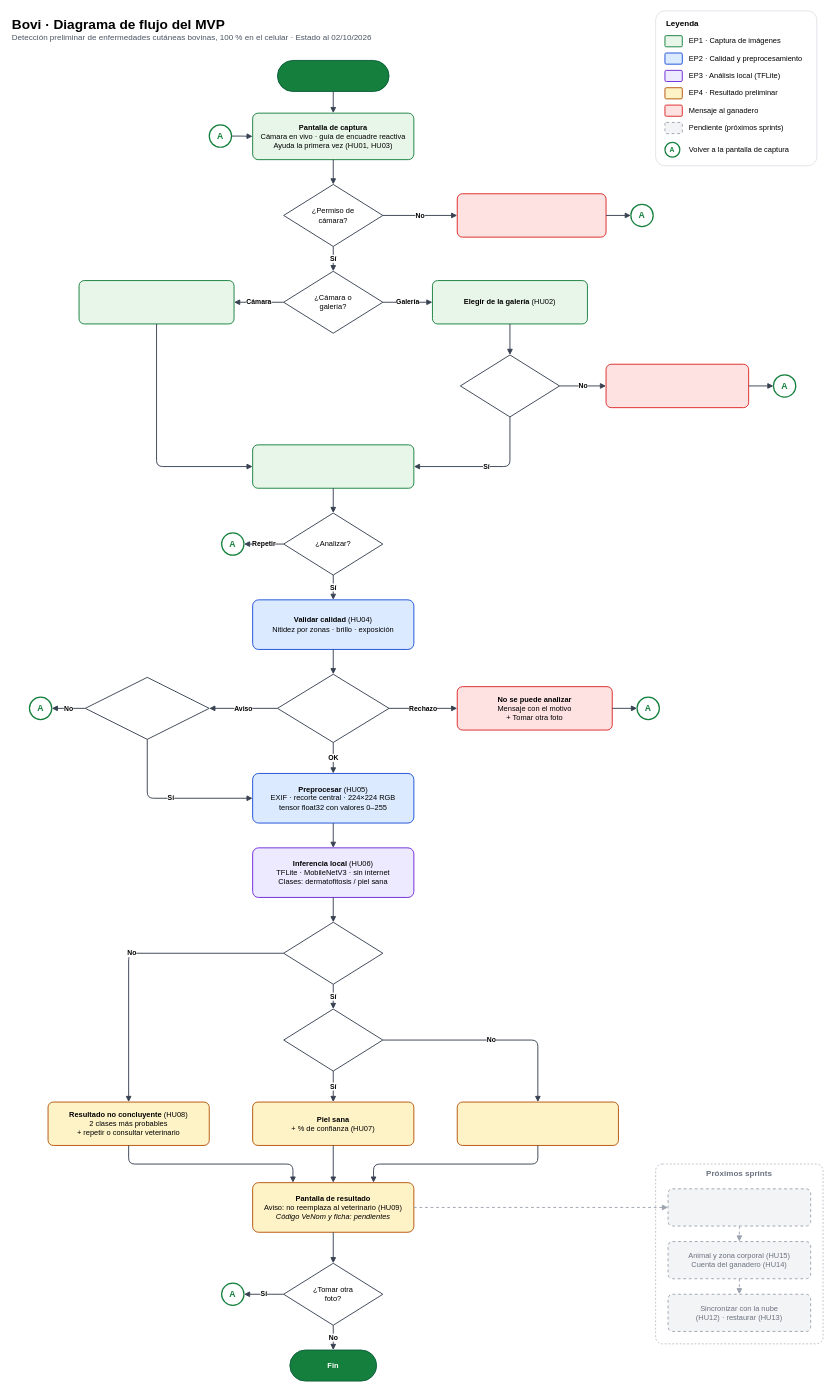
This 834x1393 diagram has some shape labels left out. The shapes that lost their labels are listed below. From the top down, each one's box as (x1, y1, x2, y2) in pixels, then its label:
(277, 60, 389, 92): Inicio: el ganadero abre Bovi
(457, 193, 606, 237): Explica para qué sirve el permiso + botón Abrir ajustes
(78, 280, 234, 324): Tomar foto 720p (HU01) Marco verde cuando el celular está quieto
(460, 354, 560, 417): ¿Resolución ≥ 720p?
(605, 364, 749, 408): Aviso: resolución insuficiente sugiere tomar una foto
(252, 444, 414, 488): Vista previa Analizar · Repetir
(85, 677, 209, 740): ¿Analizar de todos modos?
(277, 674, 389, 743): ¿Calidad de la foto?
(283, 922, 383, 984): ¿Confianza ≥ 60 %?
(283, 1008, 383, 1071): ¿Clase: piel sana?
(457, 1101, 619, 1146): Indicios de dermatofitosis + % de confianza (HU07)
(667, 1188, 811, 1226): Guardar evaluación en Isar (HU10) · historial (HU11)
